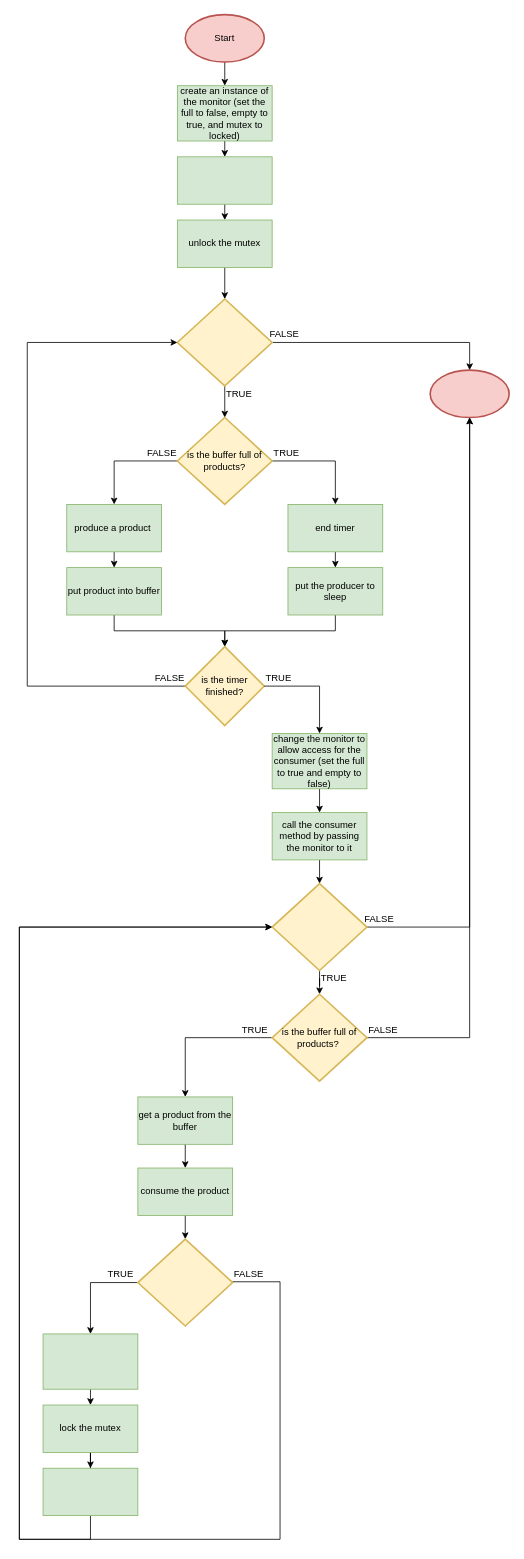
The diagram is 524 pixels wide and 1559 high, and some of its shapes have lost their labels. Here are the shapes that lost their labels. From the top down, the centre of each, then its label:
(224,180): call the producer method by passing the monitor to it
(224,342): is the full attribute of monitor set to false?
(469,393): End
(319,926): is the empty attribute of monitor set to false?
(185,1282): is the buffer empty of products?
(90,1361): change the monitor (set the full to false and empty to true)
(90,1491): put the consumer to sleep
